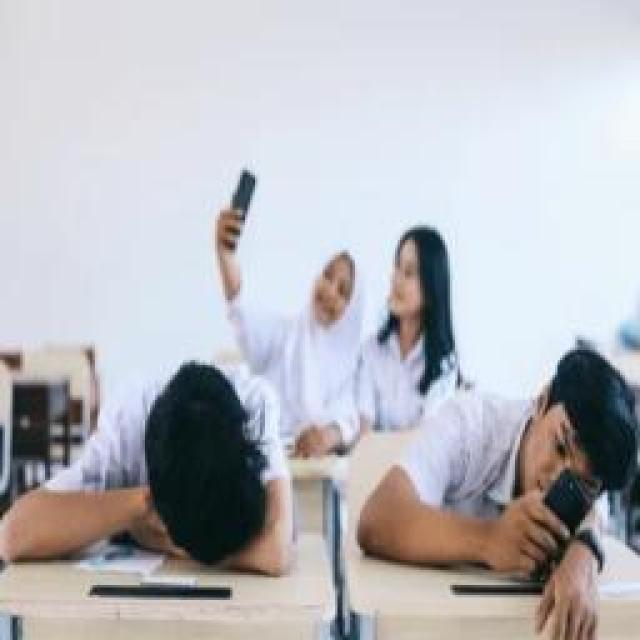phone: (352, 342, 640, 640), (217, 165, 365, 455)
sleep: (0, 343, 300, 575)
